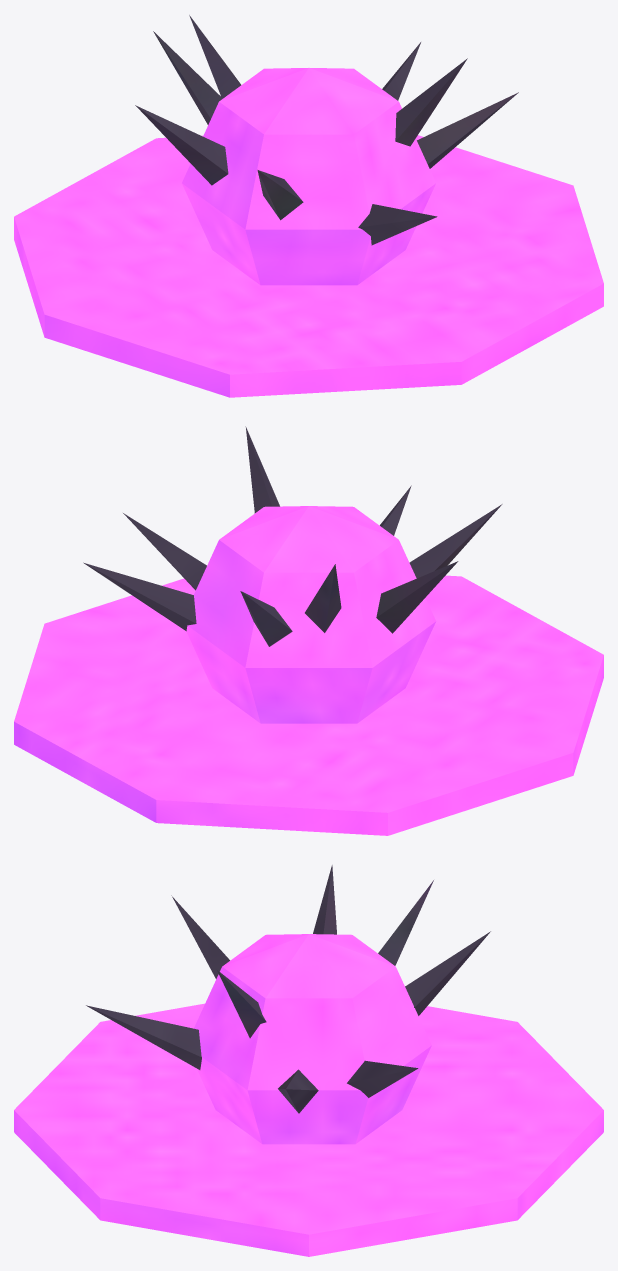
File: fx_die.glb
3 renders of one model, top to bottom at view 1: azimuth 30°, elevation 25°; view 2: azimuth 150°, elevation 25°; view 3: azimuth 270°, elevation 25°, orthographic. The views are drawn at different scales.
Visible parts, largest first — view 1: fx_die; view 2: fx_die; view 3: fx_die.
Boxes of the visible parts, x1,y1,x2,y2 form: fx_die: (14,15,603,397); fx_die: (14,426,603,835); fx_die: (14,865,603,1256).
Bounding box in the file's own units: 1.2 × 0.5385 × 1.2.
1 material, 1 textured.
